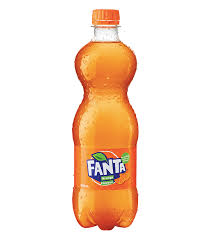fanta: (77, 12, 137, 229)
